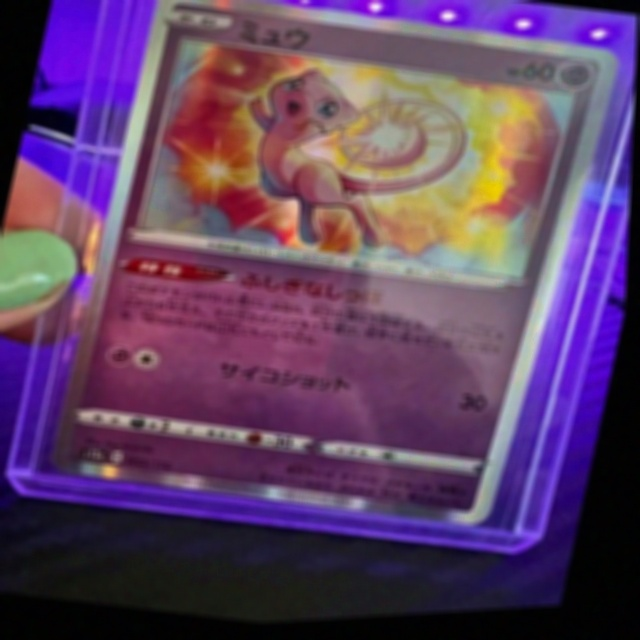card: (51, 0, 624, 534)
